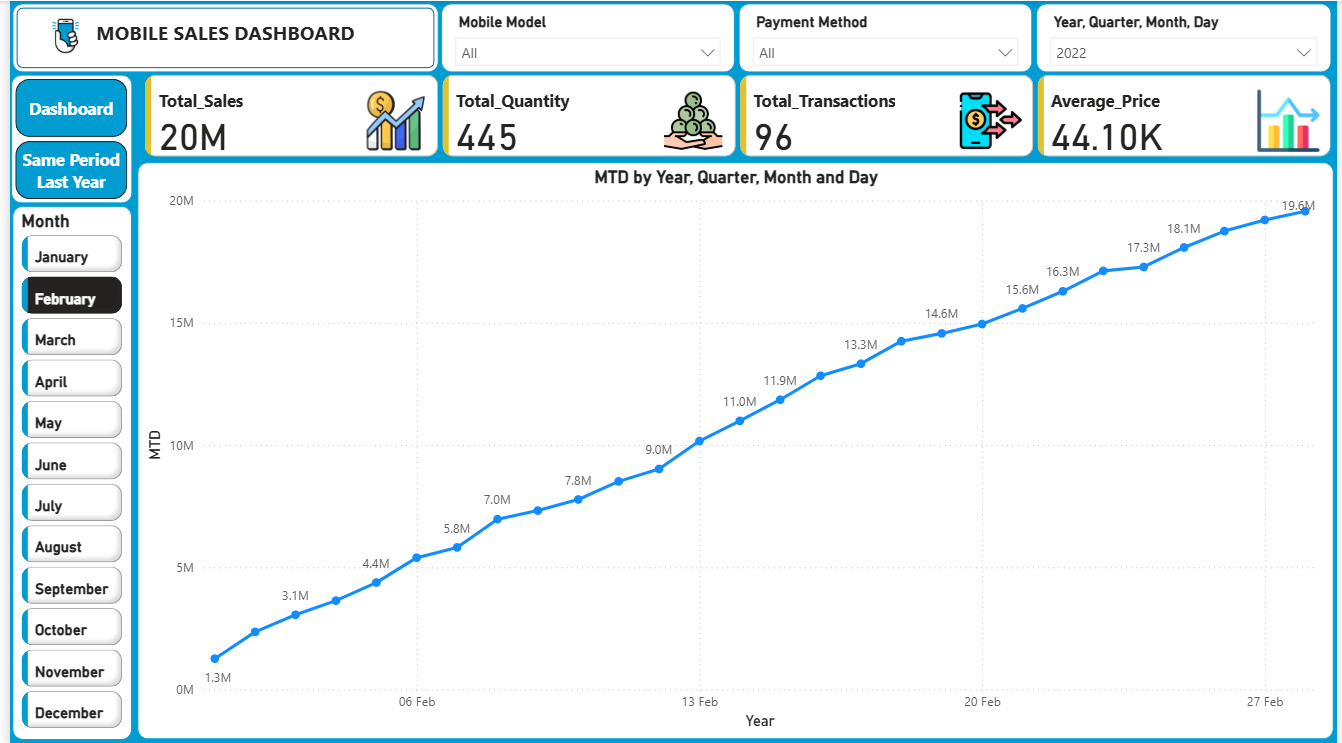

The page's visual inventory and layout, read from the dashboard file:
{"tool":"powerbi","page":{"name":"MTD report","canvas":[1280,720],"ordinal":1},"visuals":[{"type":"cardVisual","fields":{"Data":["Custom_Calender.Total_Sales","Custom_Calender.Total_Quantity","Mobile_Sales_Data.Total_Transactions","Mobile_Sales_Data.Average_Price"]},"box":[125.5,66.4,1154.2,89.5],"z":0},{"type":"slicer","fields":{"Values":["Mobile_Sales_Data.Mobile Model"]},"box":[416.2,2.4,283.5,66.4],"z":1000},{"type":"slicer","fields":{"Values":["Mobile_Sales_Data.Payment Method"]},"box":[703.4,2.4,283.5,66.4],"z":2000},{"type":"slicer","fields":{"Values":["Custom_Calender.Date.Variation.Date Hierarchy.Year","Custom_Calender.Date.Variation.Date Hierarchy.Quarter","Custom_Calender.Date.Variation.Date Hierarchy.Month","Custom_Calender.Date.Variation.Date Hierarchy.Day"]},"box":[990.5,2.4,284.7,66.4],"z":3000},{"type":"lineChart","fields":{"Category":["Custom_Calender.Date.Variation.Date Hierarchy.Year","Custom_Calender.Date.Variation.Date Hierarchy.Quarter","Custom_Calender.Date.Variation.Date Hierarchy.Month","Custom_Calender.Date.Variation.Date Hierarchy.Day"],"Y":["Mobile_Sales_Data.MTD"]},"box":[122.6,155.8,1154.2,556.9],"z":4000},{"type":"advancedSlicerVisual","fields":{"Values":["Custom_Calender.Date.Variation.Date Hierarchy.Month"]},"box":[2.9,197.7,115.4,515.1],"z":5000},{"type":"pageNavigator","box":[1.4,70.7,116.9,124.1],"z":6000},{"type":"shape","box":[2.9,2.9,411.2,66.4],"z":7000},{"type":"textbox","box":[17.3,13,382.3,41.8],"z":8000},{"type":"image","box":[17.3,7.2,73.6,53.4],"z":9000}]}

Visuals, with their boxes in screenshot pixels (x1, y1, x2, y2), scaled from the page's 1280x720 canvas onto the 1342x743 screenshot:
cardVisual - Custom_Calender.Total_Sales x Custom_Calender.Total_Quantity: x1=132 y1=69 x2=1341 y2=161
slicer - Mobile_Sales_Data.Mobile Model: x1=436 y1=2 x2=734 y2=71
slicer - Mobile_Sales_Data.Payment Method: x1=737 y1=2 x2=1035 y2=71
slicer - Custom_Calender.Date.Variation.Date Hierarchy.Year x Custom_Calender.Date.Variation.Date Hierarchy.Quarter: x1=1038 y1=2 x2=1337 y2=71
lineChart - Custom_Calender.Date.Variation.Date Hierarchy.Year x Custom_Calender.Date.Variation.Date Hierarchy.Quarter: x1=129 y1=161 x2=1339 y2=735
advancedSlicerVisual - Custom_Calender.Date.Variation.Date Hierarchy.Month: x1=3 y1=204 x2=124 y2=736
pageNavigator: x1=1 y1=73 x2=124 y2=201
shape: x1=3 y1=3 x2=434 y2=72
textbox: x1=18 y1=13 x2=419 y2=57
image: x1=18 y1=7 x2=95 y2=63
